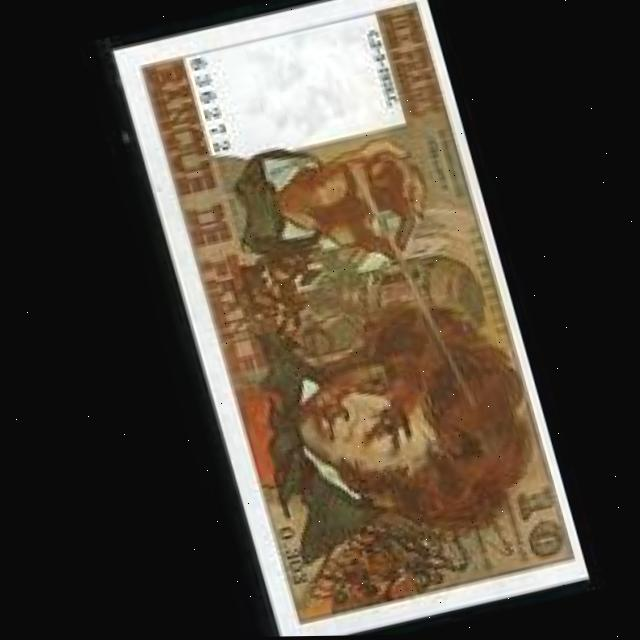banknote: (121, 0, 584, 639), (493, 479, 571, 578)
